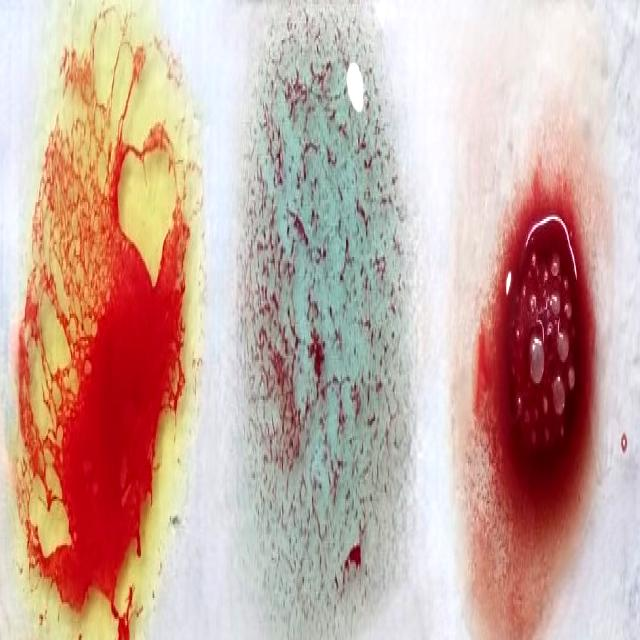A: (247, 25, 406, 640)
B: (23, 11, 188, 640)
D: (458, 86, 601, 640)
